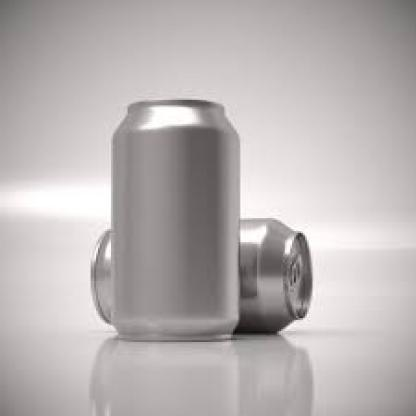METAL: (111, 100, 238, 340), (89, 214, 312, 335)
